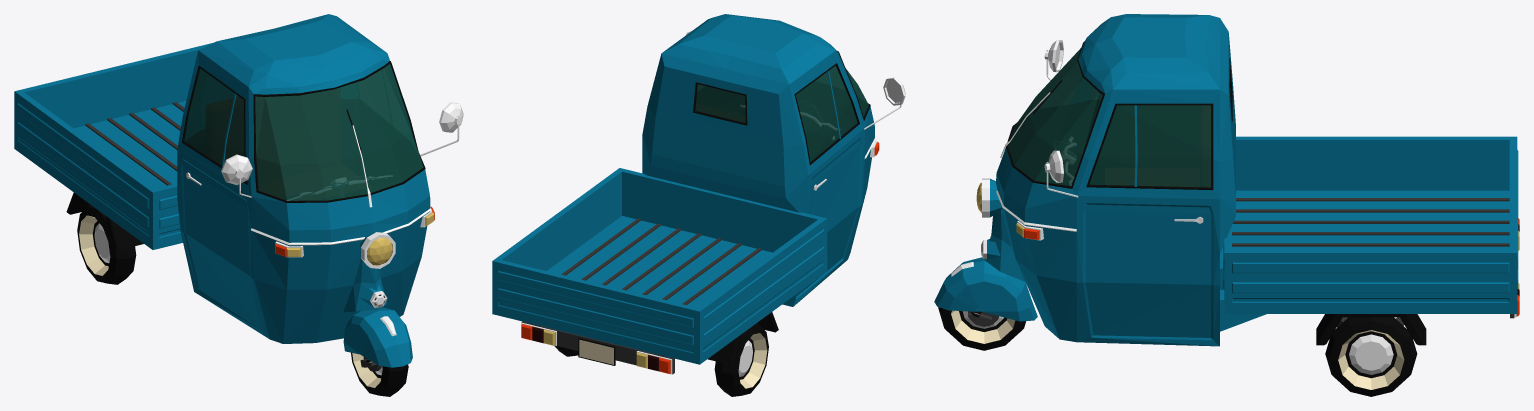
Rendered from 3Wheeler_01.FBX.
3 renders of one model, left to right at view 1: azimuth 30°, elevation 25°; view 2: azimuth 150°, elevation 25°; view 3: azimuth 270°, elevation 25°, orthographic. The views are drawn at different scales.
Parts seen in each view (by area): view 1: 3Wheeler_Pickup, interior, mudguard, wheel_b-r, wheel_f, headLights, mirror_r, lights, mirror_l; view 2: 3Wheeler_Pickup, interior, wheel_b-r, licensePlate_b, mirror_r, backupLights; view 3: 3Wheeler_Pickup, interior, wheel_b-l, mudguard, wheel_f, lights, mirror_l, mirror_r.
Part boxes in pixels (x1=…): 3Wheeler_Pickup: x1=14, y1=14, x2=431, y2=343; interior: x1=185, y1=64, x2=423, y2=200; mudguard: x1=343, y1=307, x2=412, y2=367; wheel_b-r: x1=77, y1=204, x2=136, y2=284; wheel_f: x1=351, y1=352, x2=408, y2=396; headLights: x1=286, y1=212, x2=434, y2=265; mirror_r: x1=221, y1=154, x2=252, y2=197; lights: x1=275, y1=210, x2=432, y2=268; mirror_l: x1=420, y1=102, x2=463, y2=156; 3Wheeler_Pickup: x1=492, y1=14, x2=875, y2=374; interior: x1=695, y1=66, x2=868, y2=161; wheel_b-r: x1=714, y1=323, x2=768, y2=396; licensePlate_b: x1=578, y1=338, x2=615, y2=365; mirror_r: x1=864, y1=77, x2=905, y2=129; backupLights: x1=543, y1=329, x2=647, y2=368; 3Wheeler_Pickup: x1=981, y1=14, x2=1518, y2=346; interior: x1=1008, y1=49, x2=1210, y2=187; wheel_b-l: x1=1325, y1=317, x2=1417, y2=396; mudguard: x1=934, y1=257, x2=1037, y2=321; wheel_f: x1=938, y1=307, x2=1026, y2=350; lights: x1=982, y1=178, x2=1516, y2=317; mirror_l: x1=1044, y1=150, x2=1078, y2=197; mirror_r: x1=1044, y1=40, x2=1063, y2=80.
Size of the model in its own units: 13.5 by 15.73 by 26.78.
